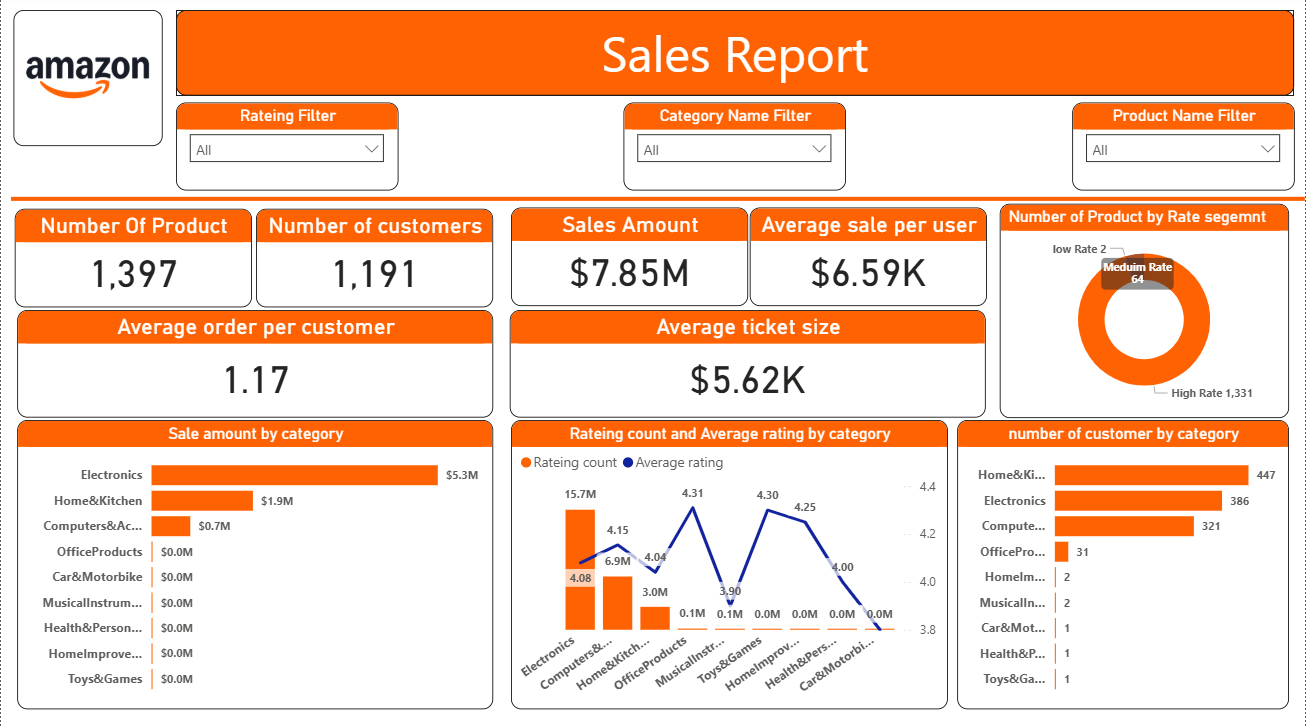

This screenshot's page, from the dashboard's own definition file:
{"tool":"powerbi","page":{"name":"Report one","canvas":[1280,720],"ordinal":0},"visuals":[{"type":"image","box":[12.3,14.7,146.2,133.9],"z":0},{"type":"textbox","box":[171.5,15.1,1097.8,83.7],"z":1000},{"type":"slicer","title":"Product Name Filter","fields":{"Values":["Fact.product_name"]},"box":[1051.1,105.7,218.2,86.4],"z":2000},{"type":"slicer","title":"Category Name Filter","fields":{"Values":["Fact.category"]},"box":[610.6,105.7,218.2,86.4],"z":3000},{"type":"slicer","title":"Rateing Filter","fields":{"Values":["Fact.Rate segemnt"]},"box":[171.5,105.7,218.2,86.4],"z":4000},{"type":"shape","box":[10.3,172.9,1270,54.2],"z":5000},{"type":"card","title":"Number Of Product","fields":{"Values":["_Measures.Number of product"]},"box":[14.1,209.5,232.9,96.7],"z":6000},{"type":"card","title":"Number of customers","fields":{"Values":["_Measures.number of customer"]},"box":[249.9,209.5,232.9,96.7],"z":7000},{"type":"card","title":"Average order per customer","fields":{"Values":["_Measures.Average order per customer"]},"box":[16.1,309.1,467.3,105.5],"z":8000},{"type":"card","title":"Sales Amount","fields":{"Values":["_Measures.Sale amount"]},"box":[500.4,208.3,232.9,96.7],"z":8001},{"type":"card","title":"Average sale per user","fields":{"Values":["_Measures.Average Rev per user"]},"box":[734.5,208.9,232.9,96.7],"z":8002},{"type":"card","title":"Average ticket size","fields":{"Values":["_Measures.Average Ticket Size"]},"box":[499.8,309.1,467.3,105.5],"z":8003},{"type":"donutChart","title":"Number of Product by Rate segemnt","fields":{"Series":["Fact.Rate segemnt"],"Y":["_Measures.Number of product"]},"box":[980.5,205.2,283.8,210.1],"z":8004},{"type":"clusteredBarChart","fields":{"Category":["Fact.category"],"Y":["_Measures.Sale amount"]},"box":[16,417.7,466.9,283.8],"z":8005},{"type":"lineClusteredColumnComboChart","fields":{"Category":["Fact.category"],"Y":["_Measures.Rateing count"],"Y2":["_Measures.Average rating"]},"box":[500.1,417.7,428.8,283.8],"z":8006},{"type":"clusteredBarChart","fields":{"Category":["Fact.category"],"Y":["_Measures.number of customer"]},"box":[938.7,417.7,325.6,283.8],"z":8007}]}

Visuals, with their boxes in screenshot pixels (x1, y1, x2, y2), scaled from the page's 1280x720 canvas onto the 1306x727 screenshot:
image: [x1=13, y1=15, x2=162, y2=150]
textbox: [x1=175, y1=15, x2=1295, y2=100]
"Product Name Filter" slicer: [x1=1072, y1=107, x2=1295, y2=194]
"Category Name Filter" slicer: [x1=623, y1=107, x2=846, y2=194]
"Rateing Filter" slicer: [x1=175, y1=107, x2=398, y2=194]
shape: [x1=11, y1=175, x2=1305, y2=229]
"Number Of Product" card: [x1=14, y1=212, x2=252, y2=309]
"Number of customers" card: [x1=255, y1=212, x2=493, y2=309]
"Average order per customer" card: [x1=16, y1=312, x2=493, y2=419]
"Sales Amount" card: [x1=511, y1=210, x2=748, y2=308]
"Average sale per user" card: [x1=749, y1=211, x2=987, y2=309]
"Average ticket size" card: [x1=510, y1=312, x2=987, y2=419]
"Number of Product by Rate segemnt" donutChart: [x1=1000, y1=207, x2=1290, y2=419]
clusteredBarChart - Fact.category x _Measures.Sale amount: [x1=16, y1=422, x2=493, y2=708]
lineClusteredColumnComboChart - Fact.category x _Measures.Rateing count: [x1=510, y1=422, x2=948, y2=708]
clusteredBarChart - Fact.category x _Measures.number of customer: [x1=958, y1=422, x2=1290, y2=708]
